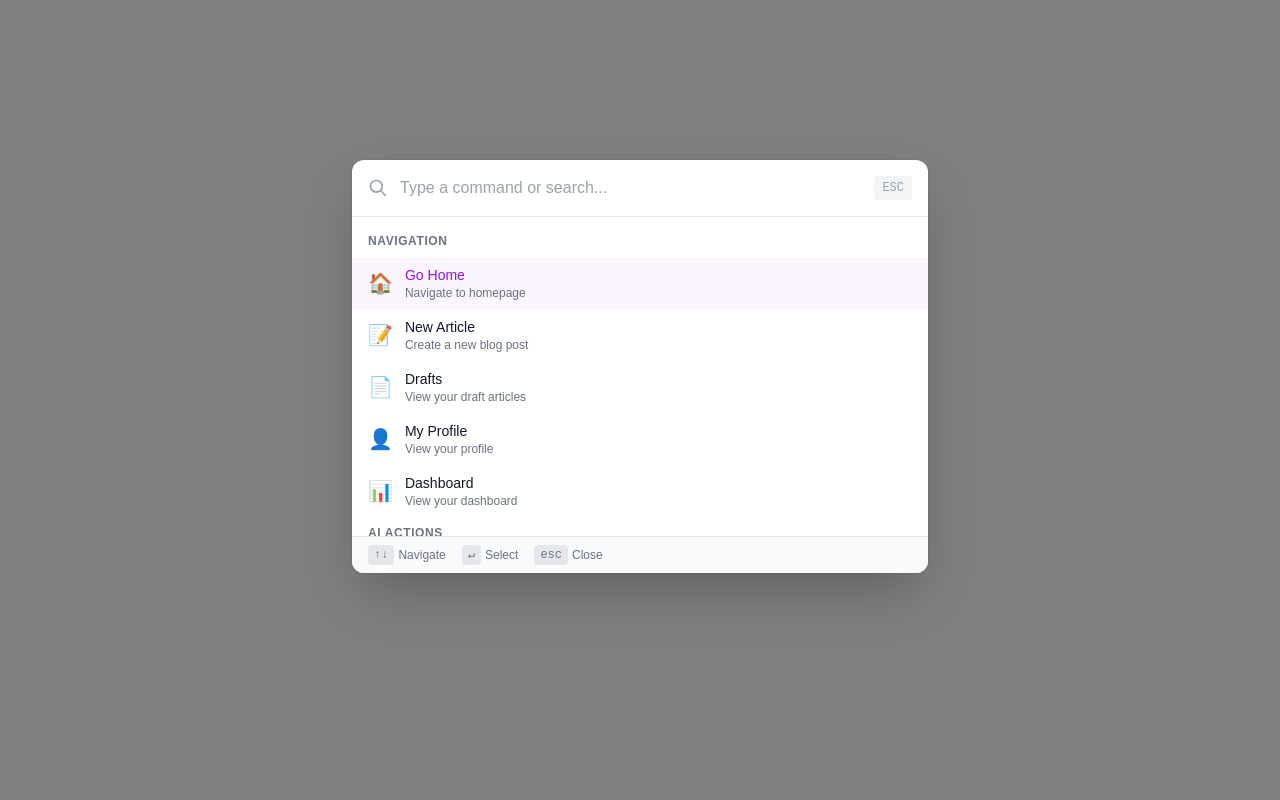
Test: CommandPalette › search filtering › shows no results message for non-matching query
This screenshot has width=1280, height=800.
Type "xyznonexistent" into the field with placeholder "Type a command or search...".
click(640, 188); type("xyznonexistent")  # box [352,160,928,216]
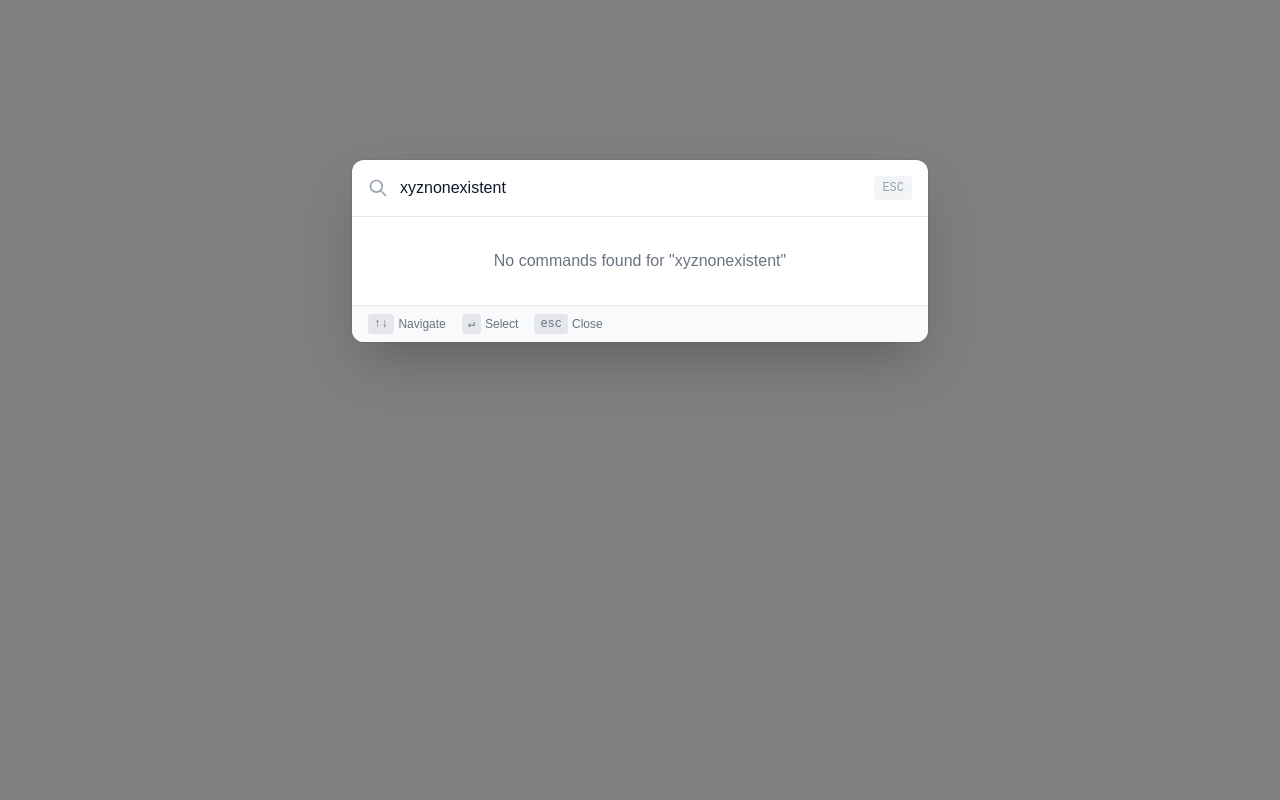
expect the text "No commands found for \"xyznonexistent\"" is shown: met, box [494,252,786,269]
